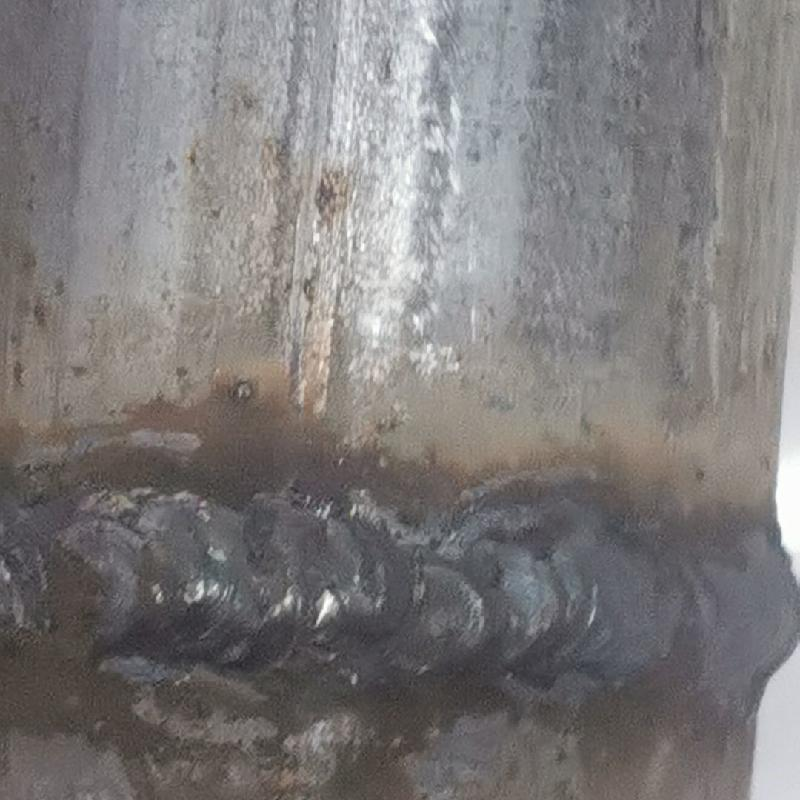good: (7, 476, 799, 706)
